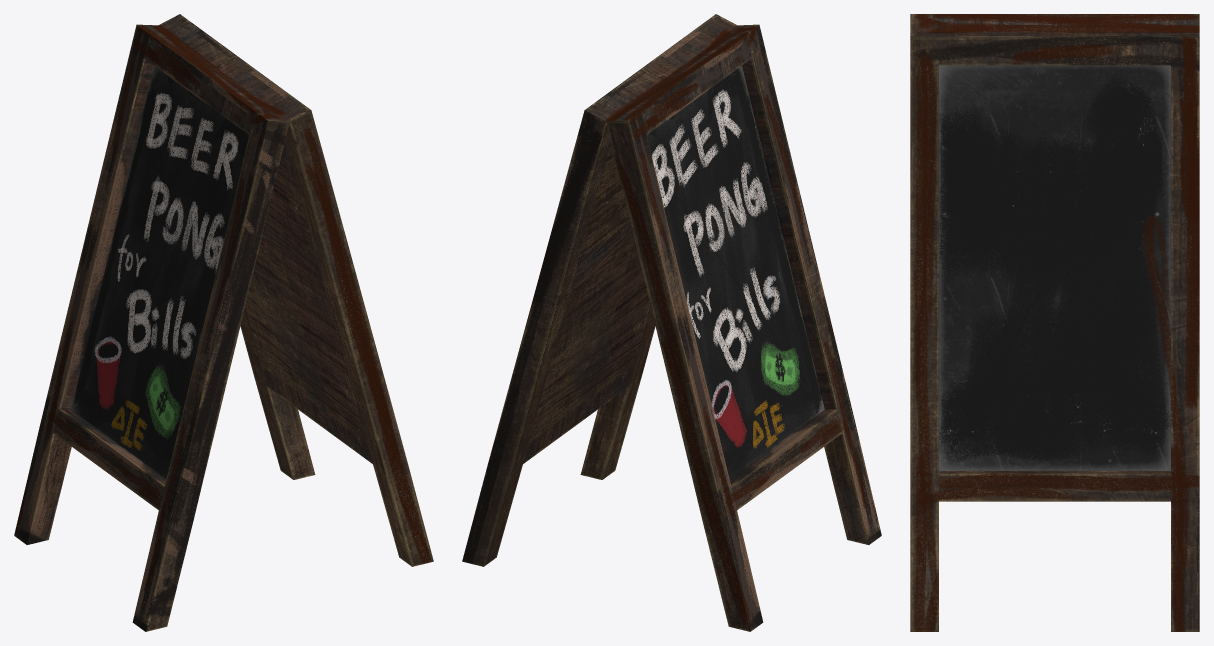
File: beer pong sign.glb
3 renders of one model, left to right at view 1: azimuth 30°, elevation 25°; view 2: azimuth 150°, elevation 25°; view 3: azimuth 270°, elevation 25°, orthographic. The views are drawn at different scales.
Visible parts, largest first — view 1: SM_Welcome_Sign_Restourant_T_floor_sign_1001_0; view 2: SM_Welcome_Sign_Restourant_T_floor_sign_1001_0; view 3: SM_Welcome_Sign_Restourant_T_floor_sign_1001_0.
Part boxes in pixels (bbox=[...]): SM_Welcome_Sign_Restourant_T_floor_sign_1001_0: bbox=[14, 14, 433, 631]; SM_Welcome_Sign_Restourant_T_floor_sign_1001_0: bbox=[462, 14, 881, 631]; SM_Welcome_Sign_Restourant_T_floor_sign_1001_0: bbox=[910, 14, 1199, 631].
Bounding box in the file's own units: 0.6585 × 1.05 × 0.52.
Materials: 1 (1 with a texture image).
